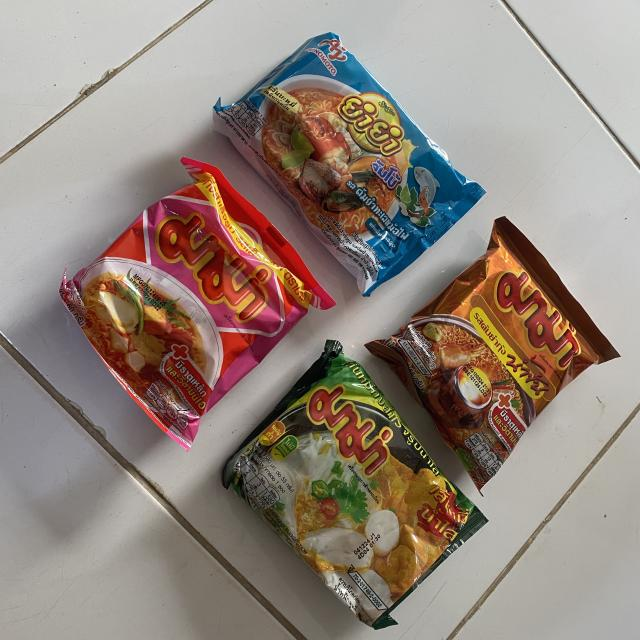plastik: (59, 158, 335, 450), (222, 340, 486, 629), (214, 32, 485, 296), (366, 218, 619, 490)
